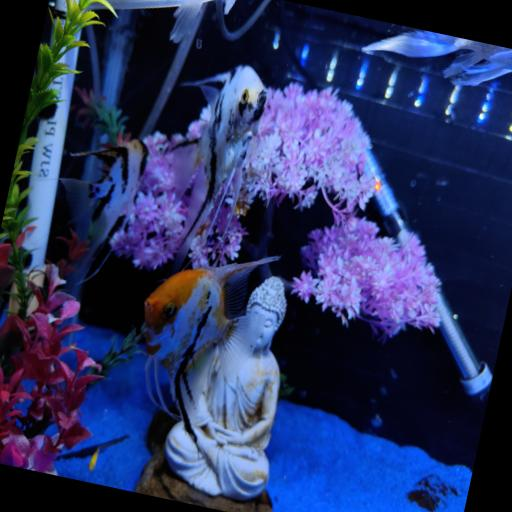Fish: (144, 257, 278, 433), (171, 66, 266, 273), (60, 140, 148, 281), (362, 30, 511, 85), (169, 0, 209, 42)
